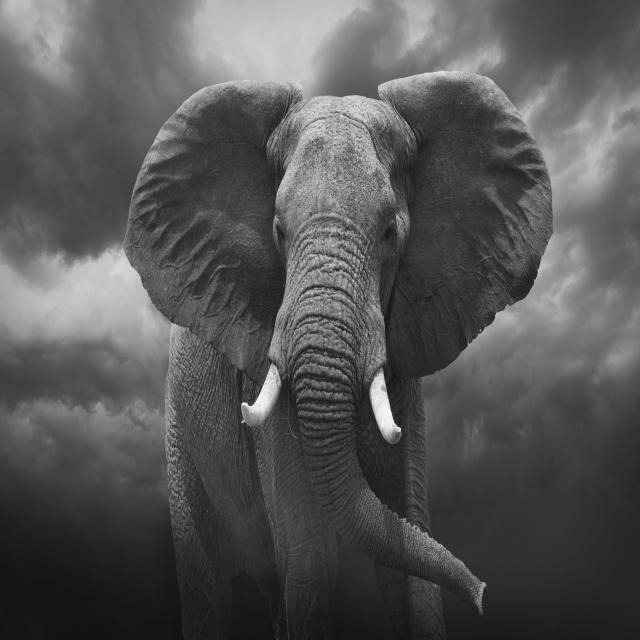Elephant: (123, 69, 553, 639)
